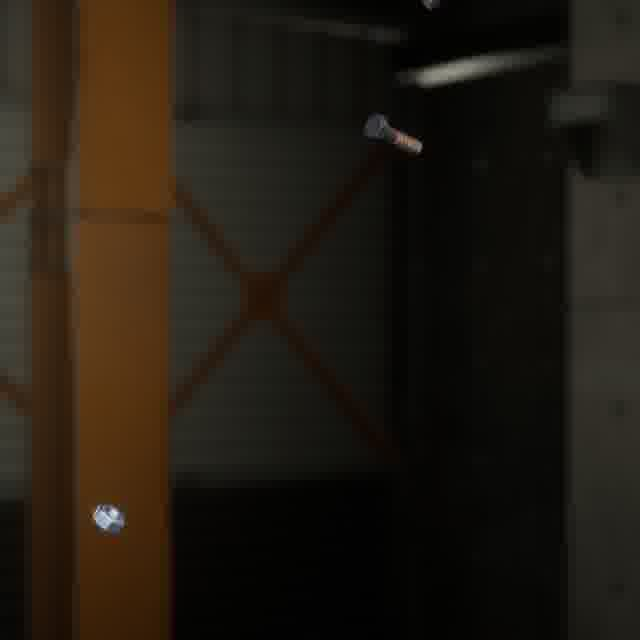bolt: (359, 109, 426, 157)
nut: (88, 497, 129, 538)
